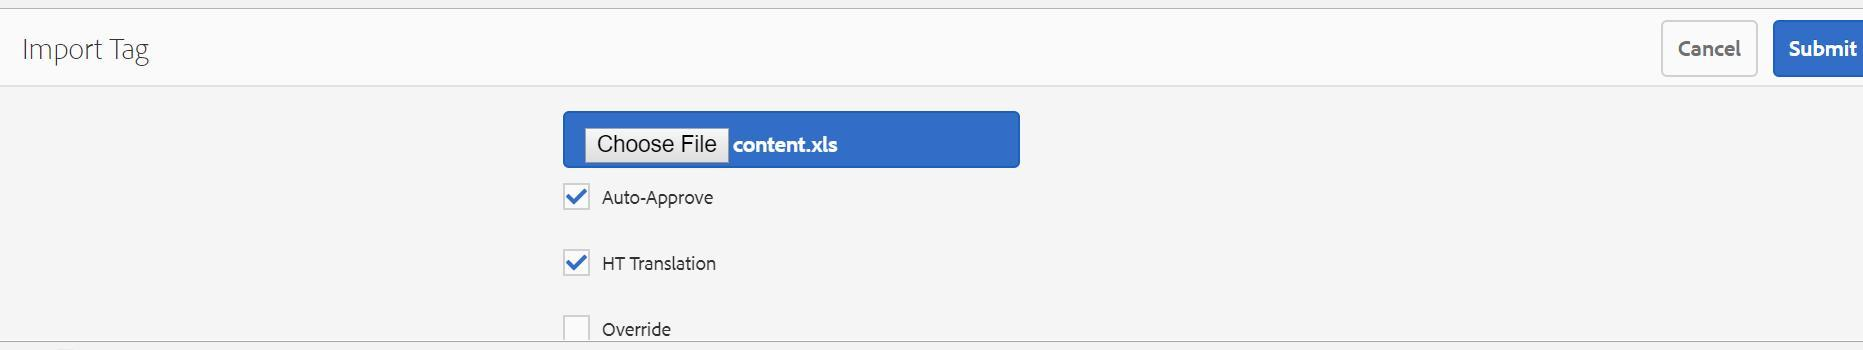button: (1772, 19, 1863, 79), (1663, 21, 1760, 78), (586, 128, 730, 164)
checkbox: (563, 183, 594, 214), (561, 252, 593, 280), (563, 319, 592, 346)
label: (600, 244, 730, 287), (599, 182, 726, 215), (599, 320, 676, 344)
